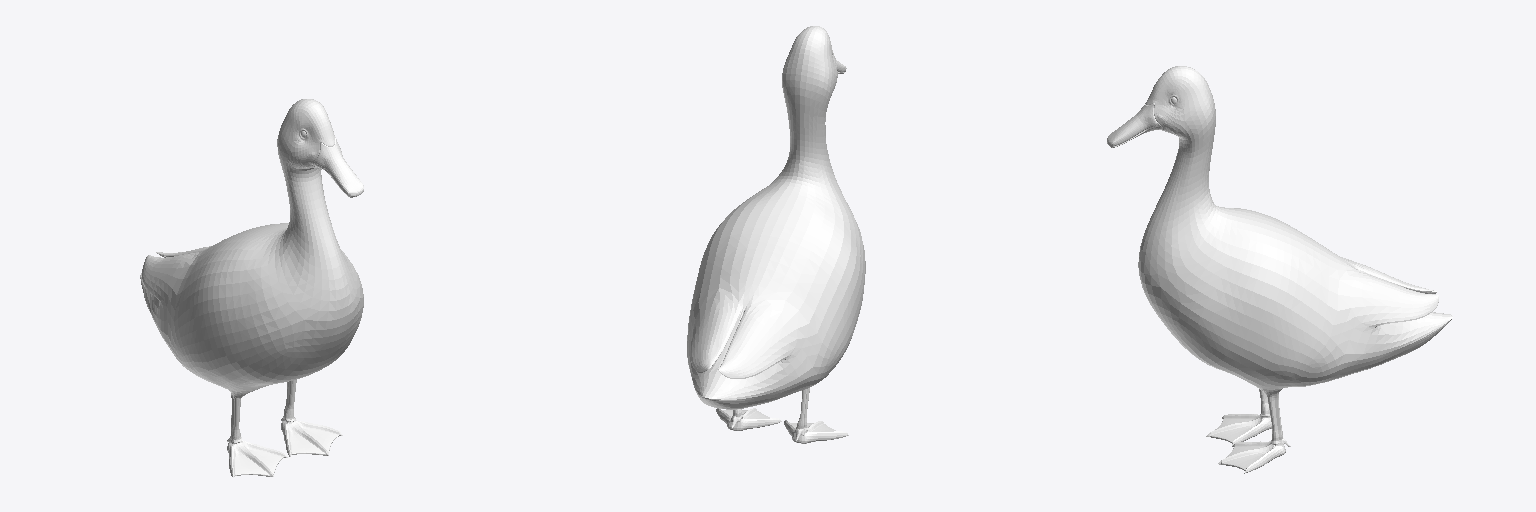
The model's file is duck.obj.
3 renders of one model, left to right at view 1: azimuth 30°, elevation 25°; view 2: azimuth 150°, elevation 25°; view 3: azimuth 270°, elevation 25°, orthographic.
Parts seen in each view (by area): view 1: 12248_Bird_v1_L2.003; view 2: 12248_Bird_v1_L2.003; view 3: 12248_Bird_v1_L2.003.
Boxes of the visible parts, x1=… form: 12248_Bird_v1_L2.003: x1=140, y1=99, x2=363, y2=477; 12248_Bird_v1_L2.003: x1=687, y1=26, x2=865, y2=443; 12248_Bird_v1_L2.003: x1=1107, y1=66, x2=1452, y2=473.
Bounding box in the file's own units: 0.4009 × 1.02 × 0.8359.